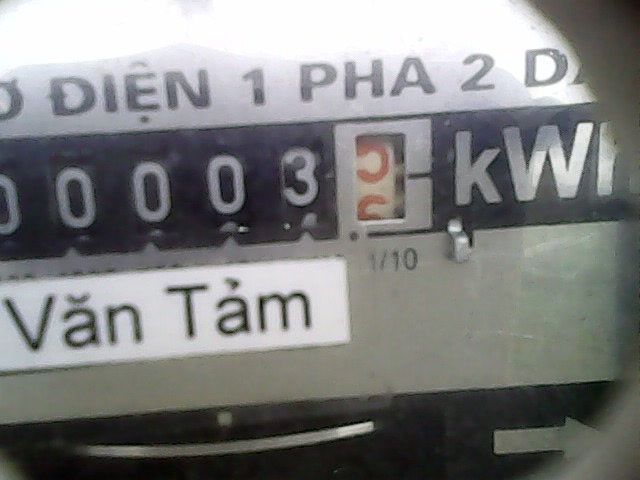phy_plate: (1, 111, 442, 244)
